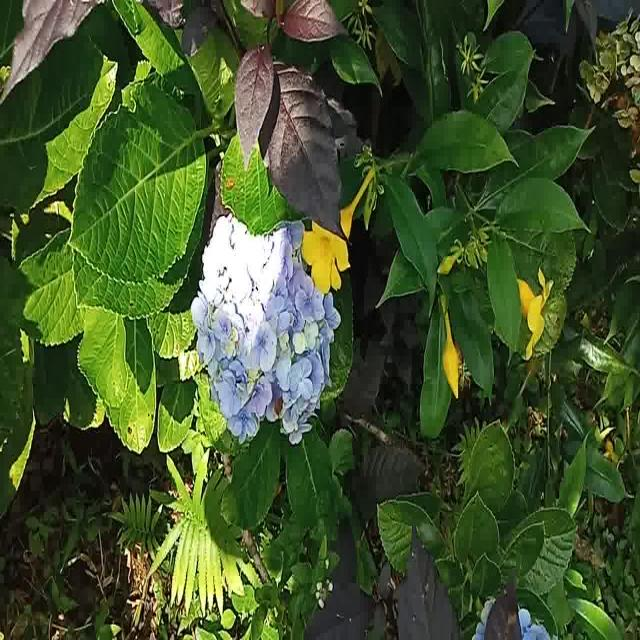Flower: (194, 208, 328, 437)
